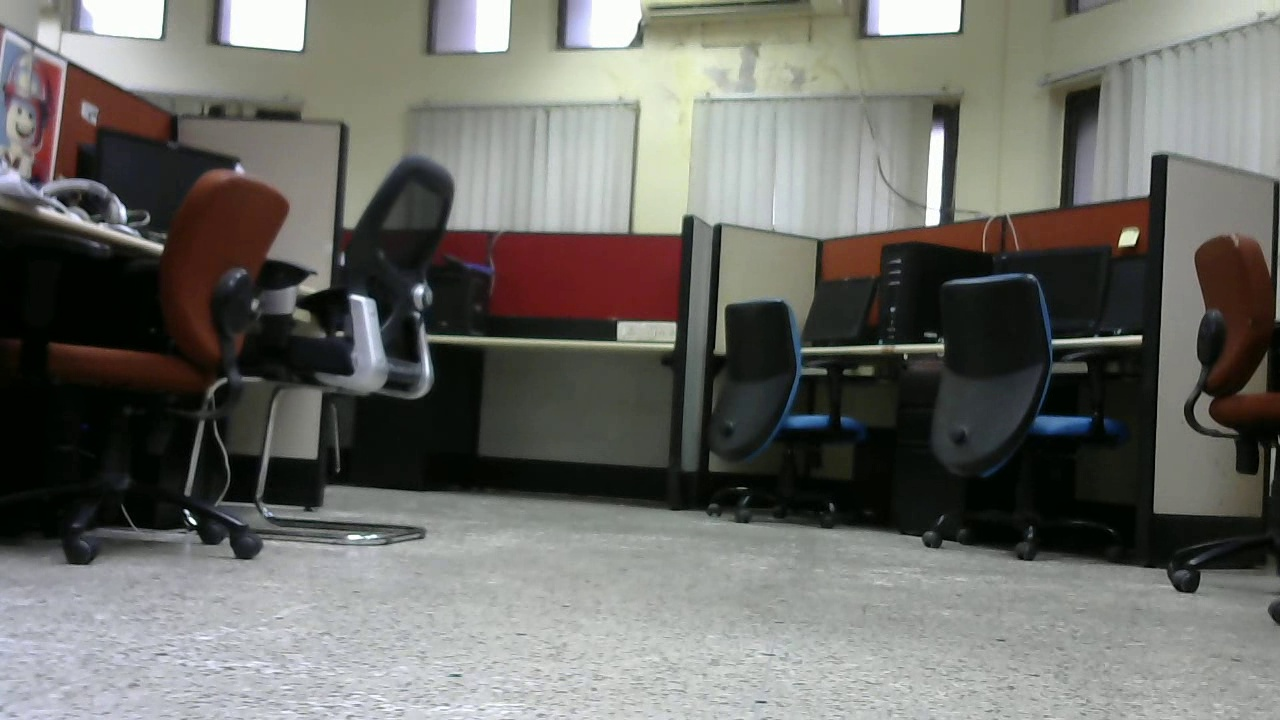chair: (43, 147, 273, 563), (279, 133, 462, 548), (915, 268, 1135, 568), (696, 300, 874, 526)
